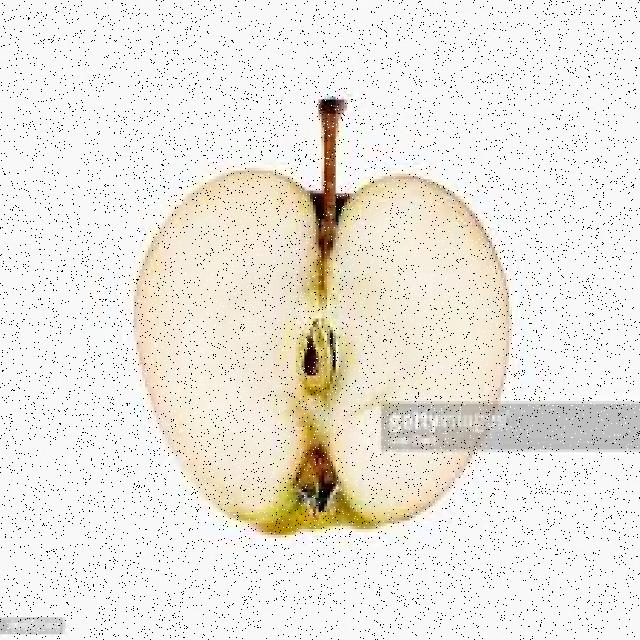Apple: (132, 168, 511, 526)
